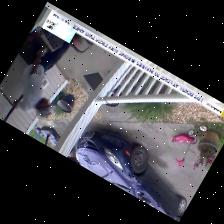person: (13, 36, 80, 117)
